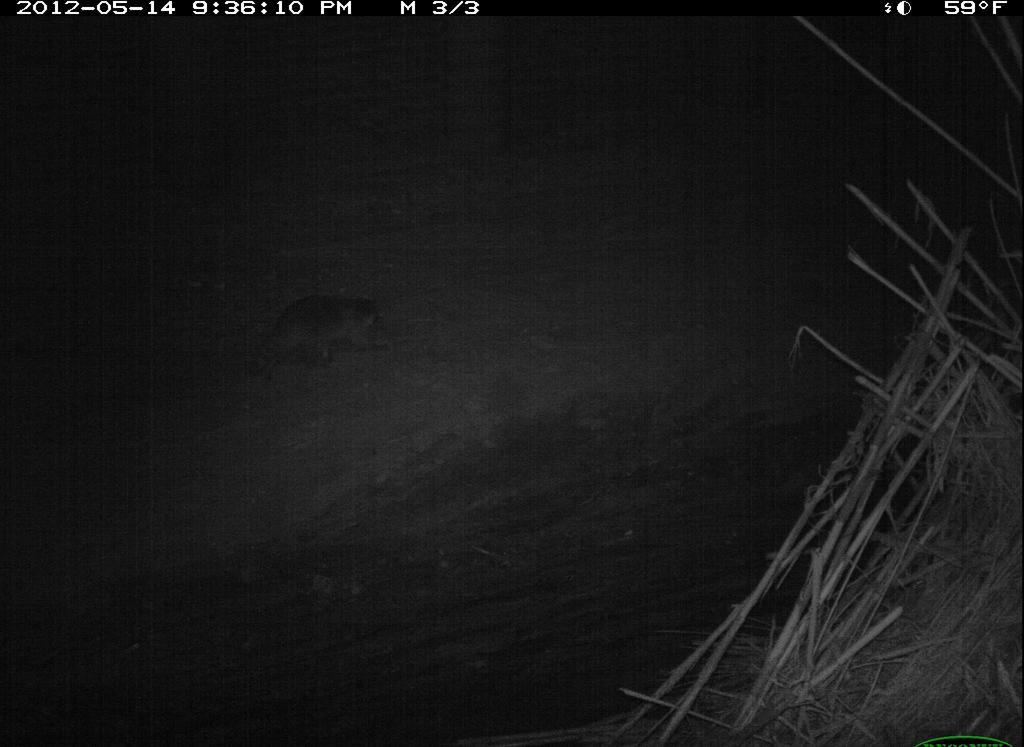raccoon: (231, 276, 420, 404)
